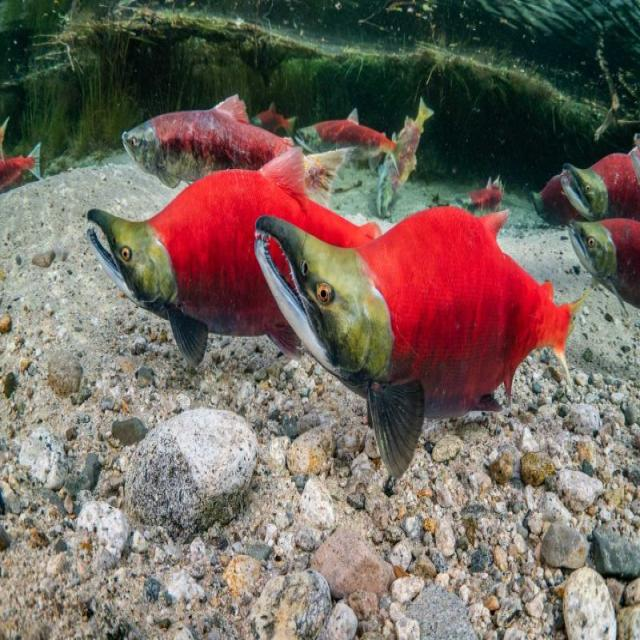salmon: (252, 197, 592, 481), (84, 137, 396, 383)
